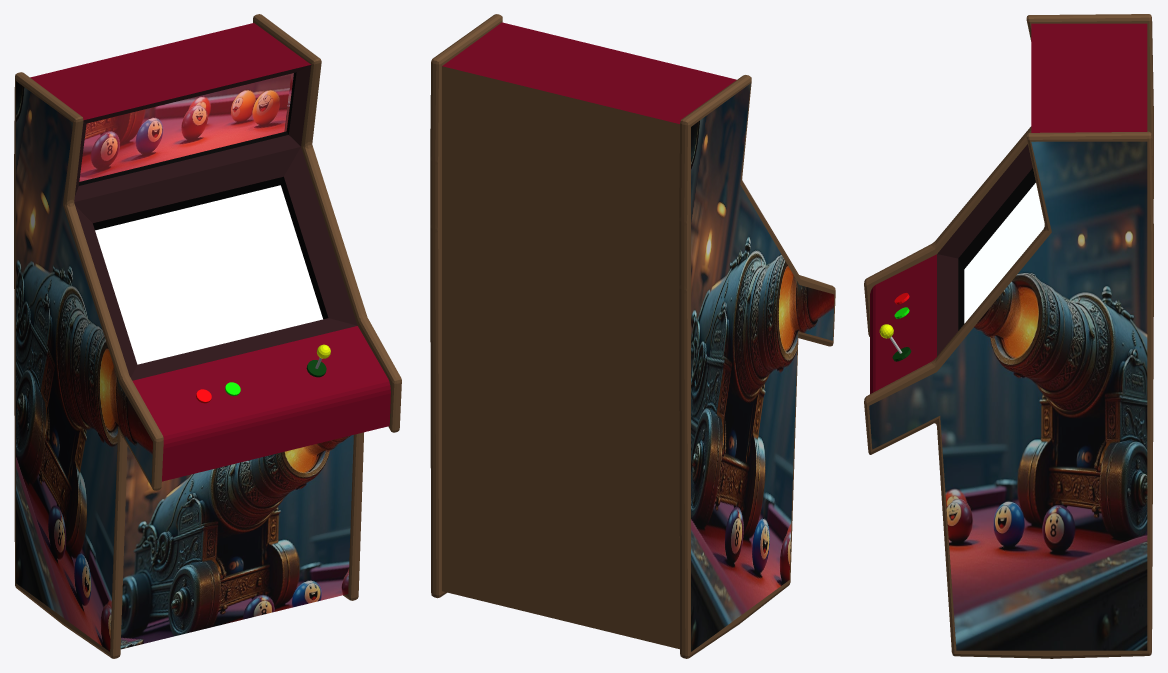
File: cabinet_insane_pool.glb
3 views of the same model, side by side, from view 1: azimuth 30°, elevation 25°; view 2: azimuth 150°, elevation 25°; view 3: azimuth 270°, elevation 25° (orthographic). The views are drawn at different scales.
Parts seen in each view (by area): view 1: Cube; view 2: Cube; view 3: Cube.
Part boxes in pixels (x1,y1,x2,y2): Cube: [14, 14, 401, 658]; Cube: [430, 14, 835, 658]; Cube: [864, 14, 1153, 658].
Size of the model in its own units: 1 by 2 by 1.
12 materials, 2 textured.
